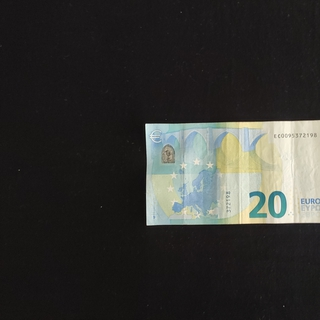20EUROBack: (144, 119, 320, 226)
